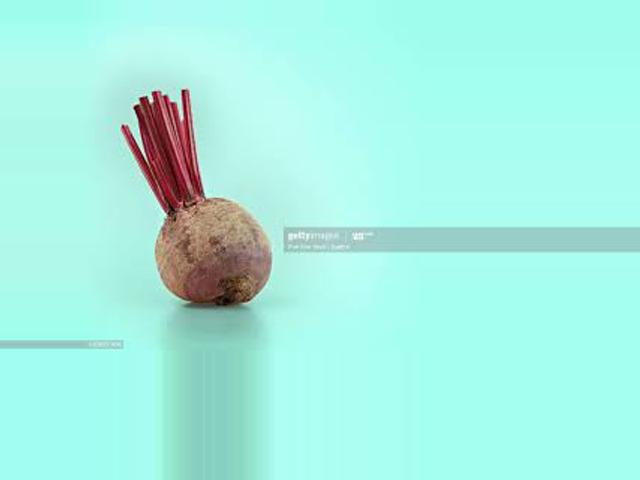beet: (122, 91, 272, 306)
